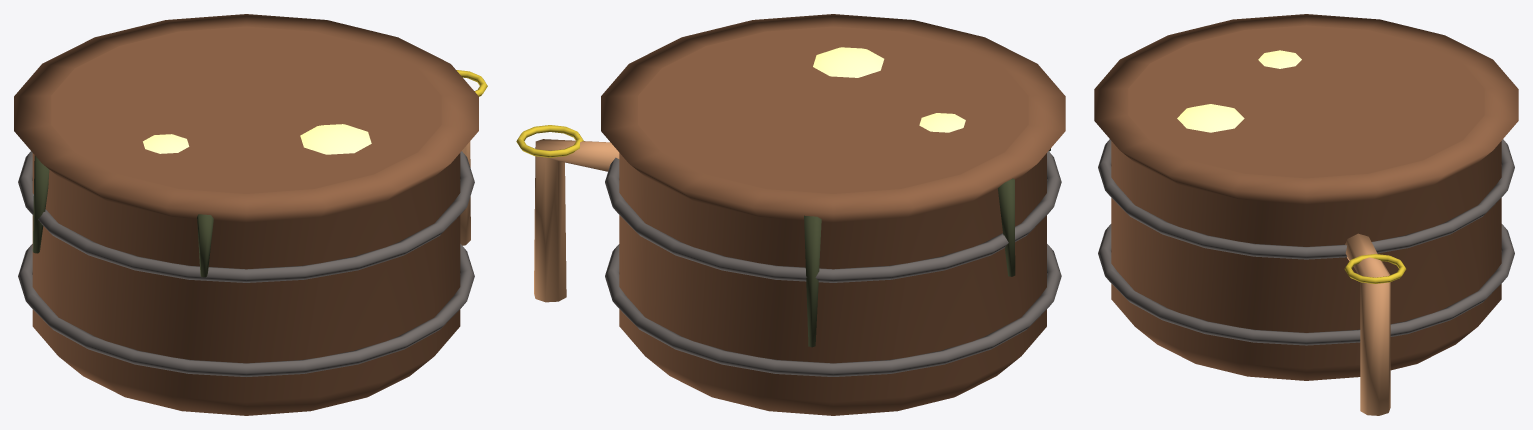
The model's file is wk_vat.glb.
3 renders of one model, left to right at view 1: azimuth 30°, elevation 25°; view 2: azimuth 150°, elevation 25°; view 3: azimuth 270°, elevation 25°, orthographic. The views are drawn at different scales.
Parts seen in each view (by area): view 1: wk_vat; view 2: wk_vat; view 3: wk_vat.
Part boxes in pixels (bbox=[...]): wk_vat: bbox=[14, 14, 487, 415]; wk_vat: bbox=[516, 14, 1065, 415]; wk_vat: bbox=[1094, 14, 1518, 415].
Bounding box in the file's own units: 2.93 × 1.37 × 2.46.
